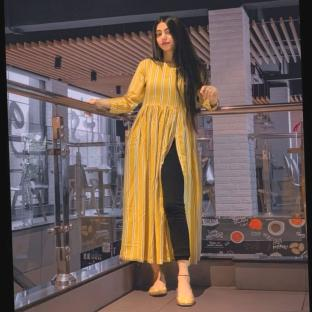Human: (87, 16, 219, 306)
